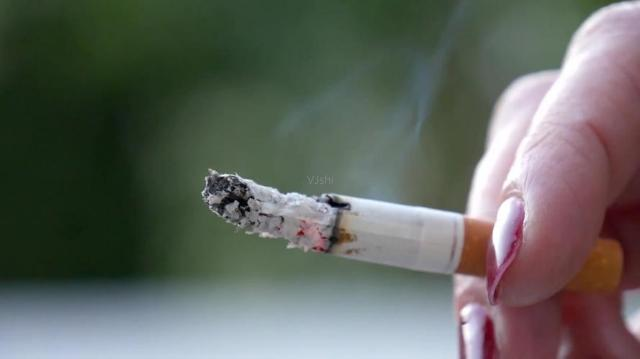Smoking: (202, 168, 624, 290)
